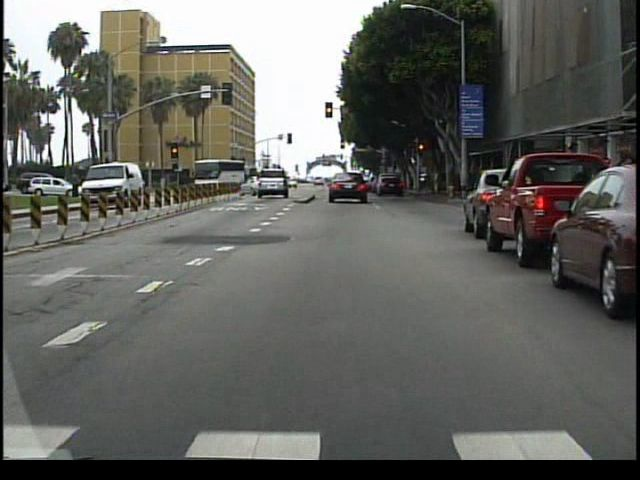person: (88, 174, 102, 208), (71, 168, 84, 199), (85, 172, 97, 202)
